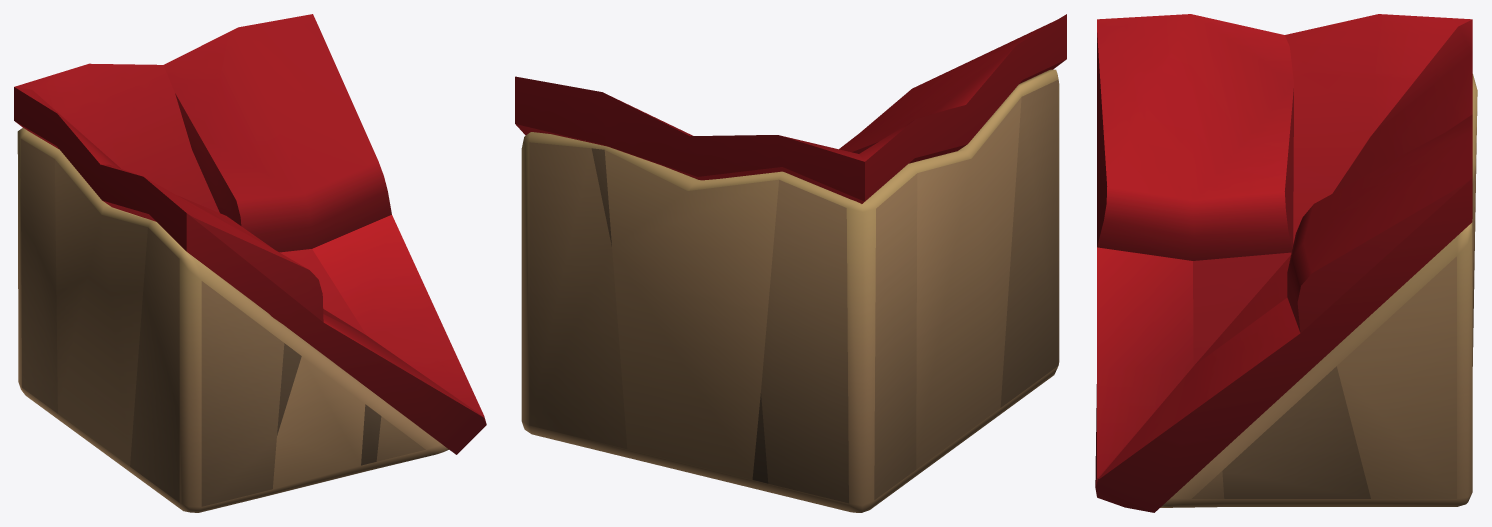
File: tavern_roof_corner_conc.fbx
3 views of the same model, side by side, from view 1: azimuth 30°, elevation 25°; view 2: azimuth 150°, elevation 25°; view 3: azimuth 270°, elevation 25° (orthographic). The views are drawn at different scales.
Parts seen in each view (by area): view 1: tavern_roof_corner_conc_LOD0; view 2: tavern_roof_corner_conc_LOD0; view 3: tavern_roof_corner_conc_LOD0.
Part boxes in pixels (x1,y1,x2,y2): tavern_roof_corner_conc_LOD0: [14, 14, 486, 512]; tavern_roof_corner_conc_LOD0: [515, 14, 1066, 512]; tavern_roof_corner_conc_LOD0: [1095, 14, 1477, 512].
Size of what is drawn, in the model's own units: 101 by 100 by 102.
